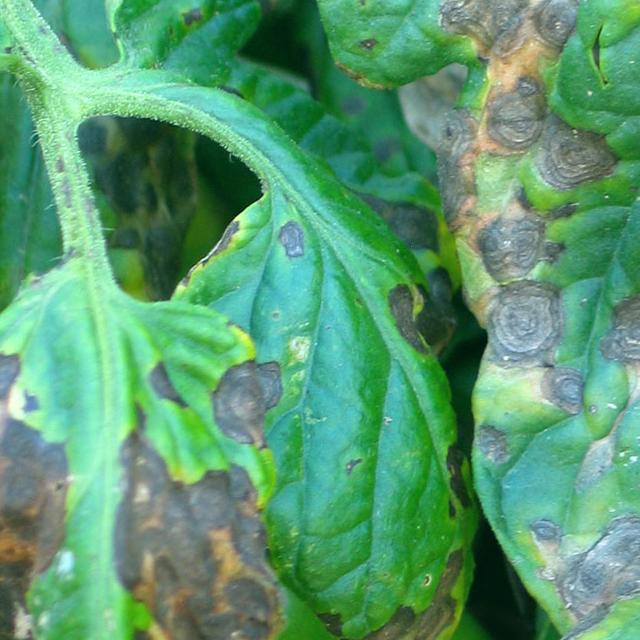Tomato Early blight leaf: (256, 0, 640, 640), (0, 263, 365, 640), (228, 181, 516, 640)
